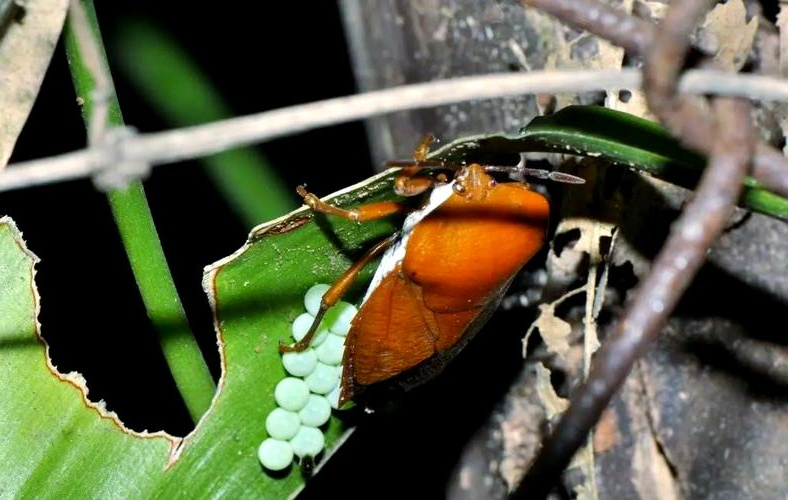Stink_Bug: (250, 151, 546, 463)
